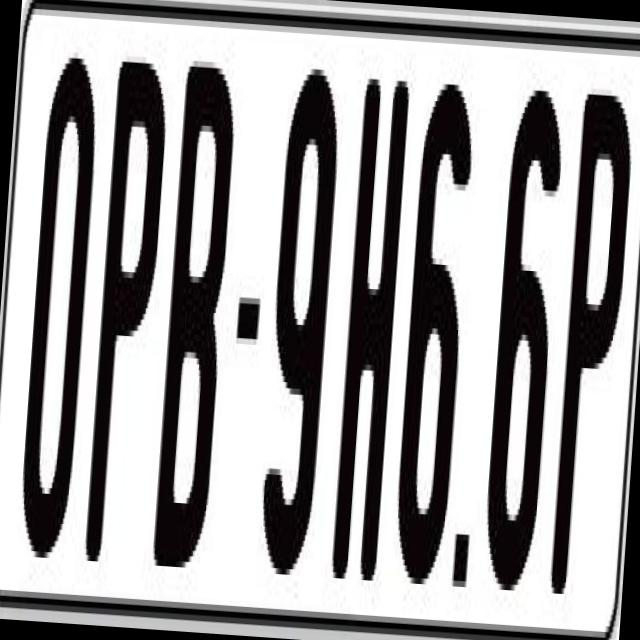0: (12, 39, 106, 572)
6: (390, 65, 479, 585), (476, 82, 564, 586)
9: (253, 67, 349, 606)
B: (148, 60, 240, 598)
H: (330, 72, 416, 575)
P: (544, 82, 629, 608), (82, 44, 170, 546)
